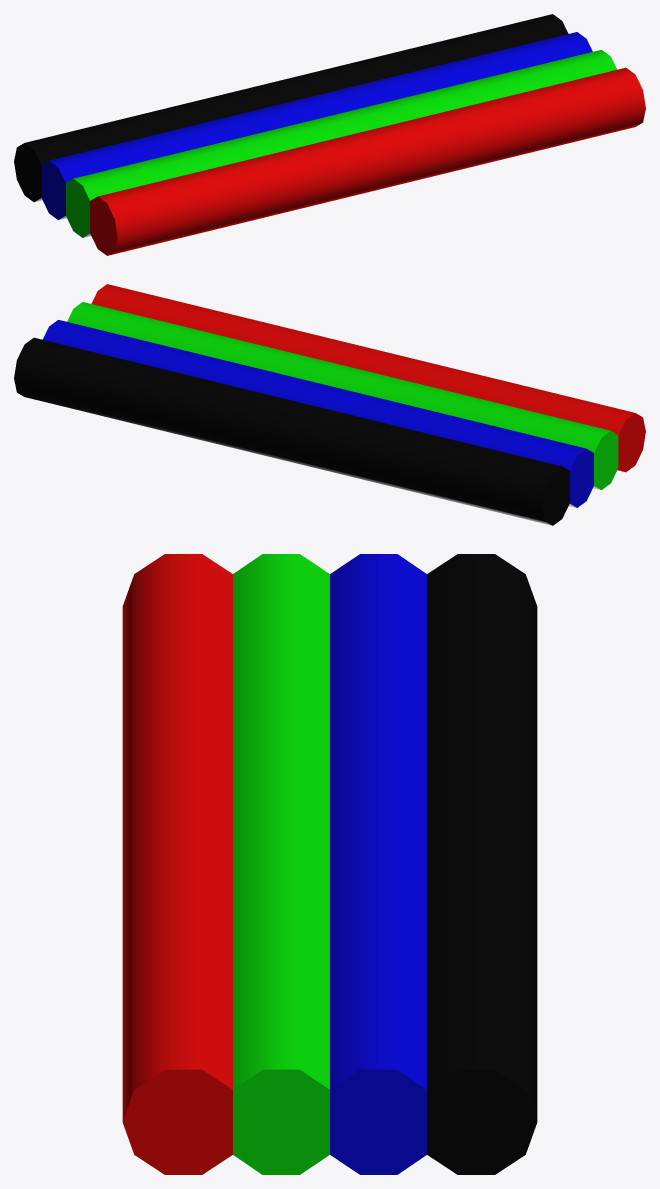
The model's file is Wire 4.fbx.
The picture shows the model from 3 angles, top to bottom: view 1: azimuth 30°, elevation 25°; view 2: azimuth 150°, elevation 25°; view 3: azimuth 270°, elevation 25°; orthographic projection. The views are drawn at different scales.
Visible parts, largest first — view 1: Cube; view 2: Cube; view 3: Cube.
Boxes of the visible parts, box(x1,y1,x2,y2) form: Cube: box(14, 14, 645, 255); Cube: box(14, 284, 645, 525); Cube: box(122, 554, 537, 1174).
Size of the model in its own units: 34 by 100 by 9.51.
